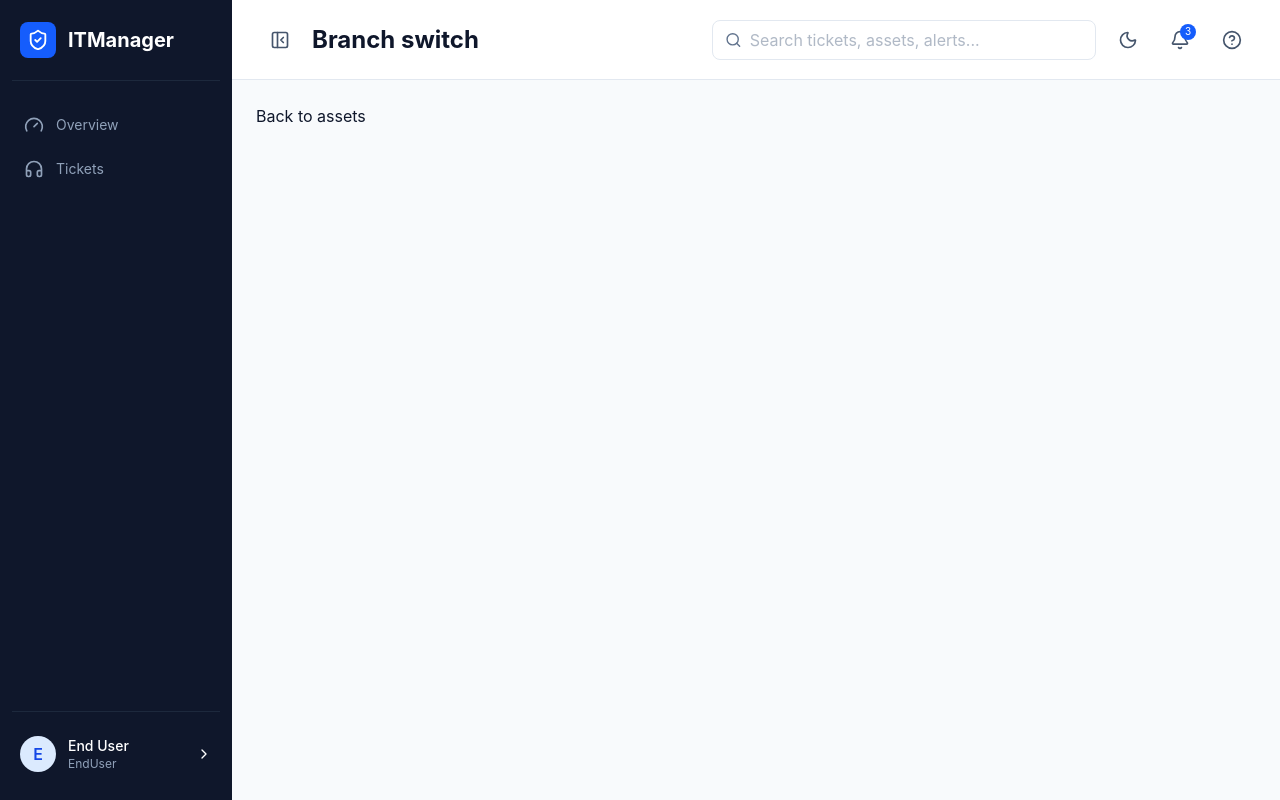
Scenario: the page title in the topbar › lets the page on screen override the heading, and takes it back when the page goes
The width and height of the screenshot is (1280, 800).
Expected: the heading reads "Branch switch", [312, 24, 479, 54]
Click the link "Back to assets" at coordinates (311, 116), box [256, 106, 366, 126]
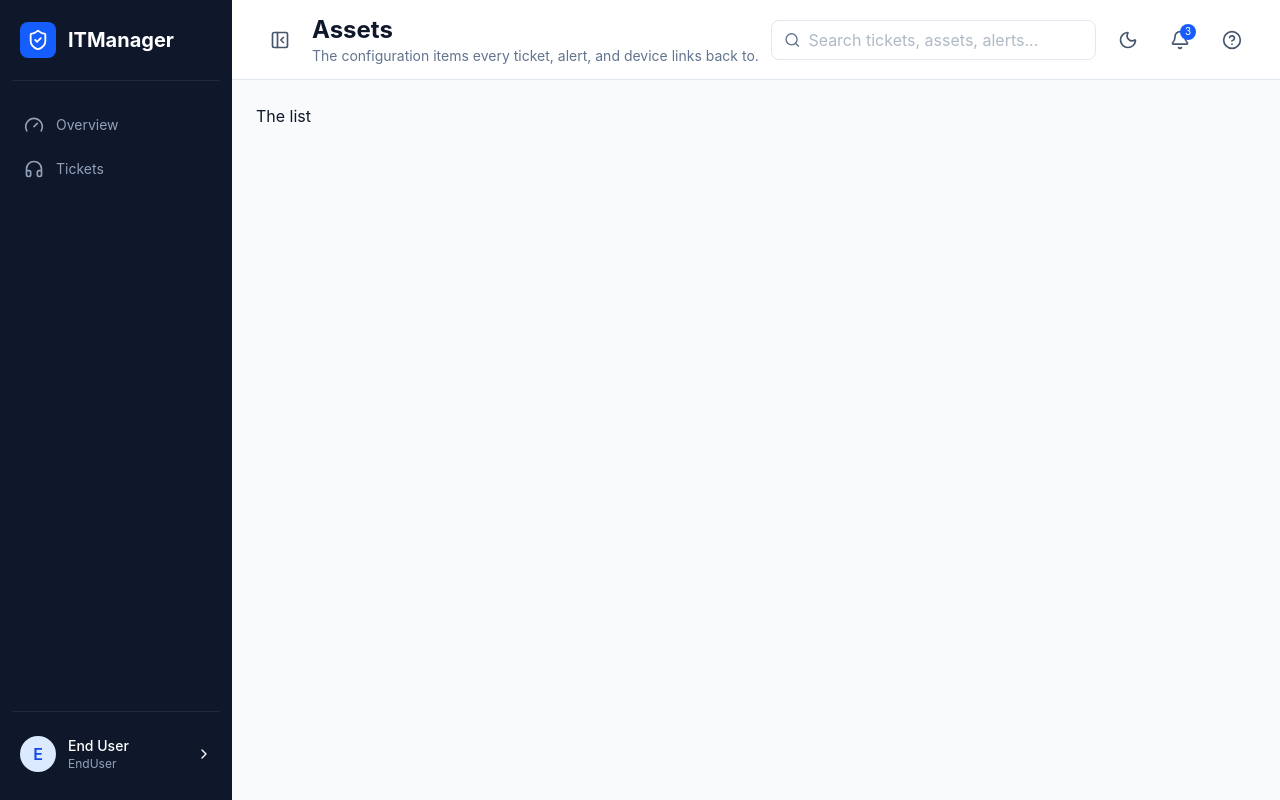
Expected: the heading reads "Assets", [312, 14, 393, 44]
